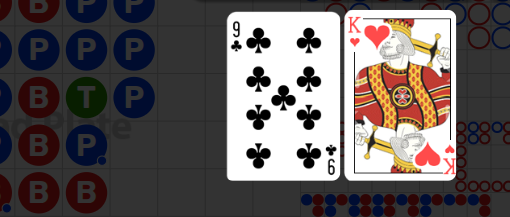9C: (230, 20, 244, 55)
KH: (443, 143, 456, 176)
